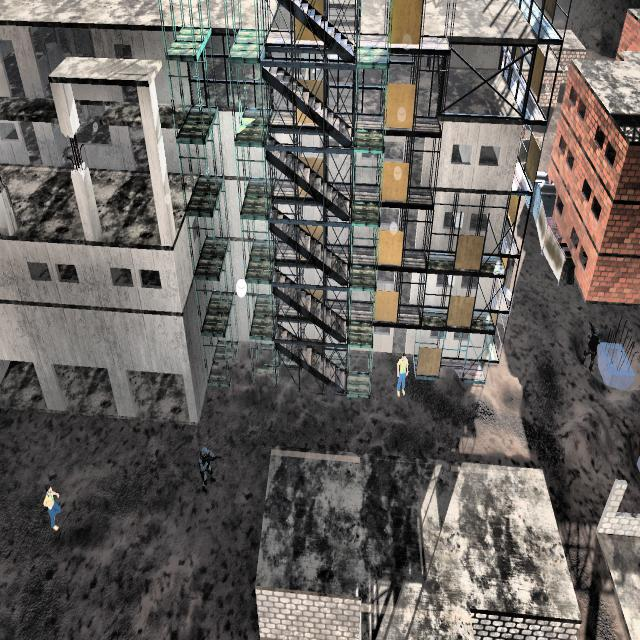bad: (195, 438, 221, 498), (583, 315, 601, 373)
good: (40, 469, 67, 539), (388, 354, 414, 403)
